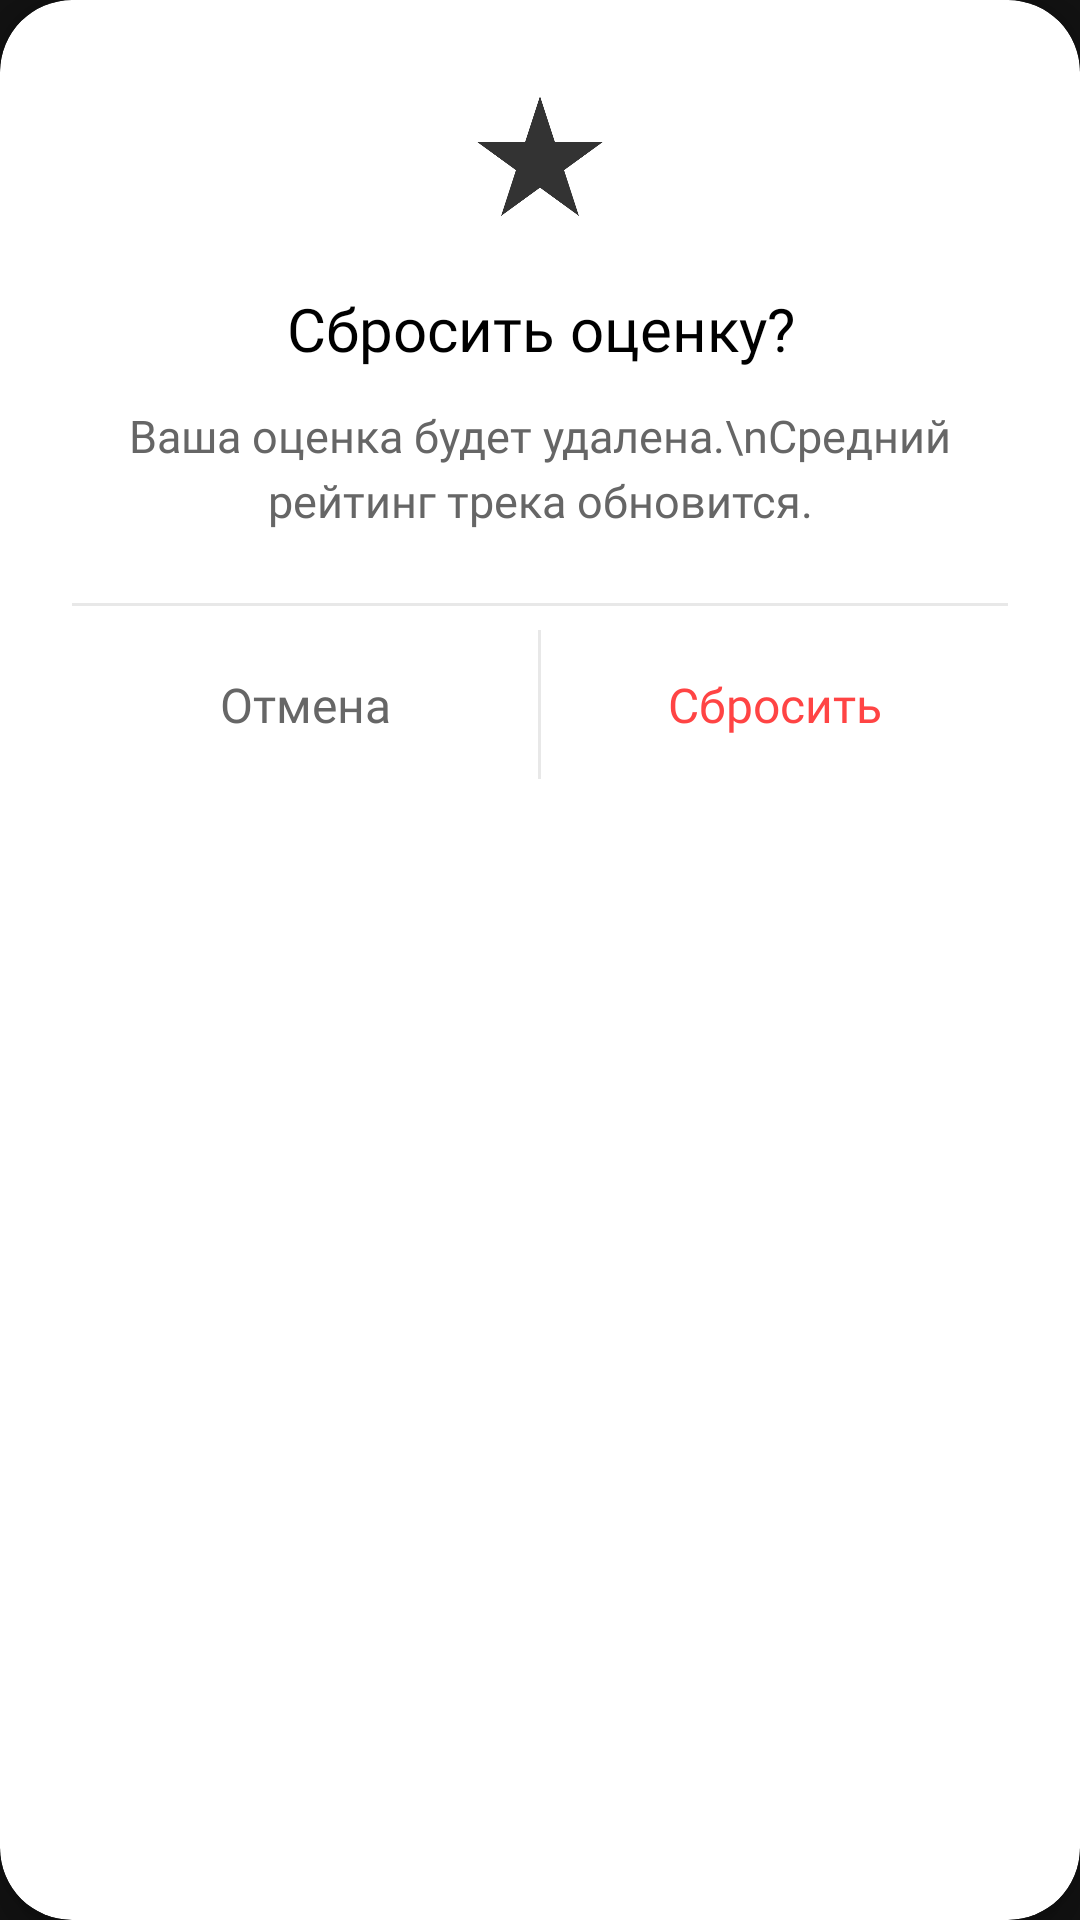

Where to tap for icons on this 1080x1920 app screen, as (x,y):
star: (540,156)
